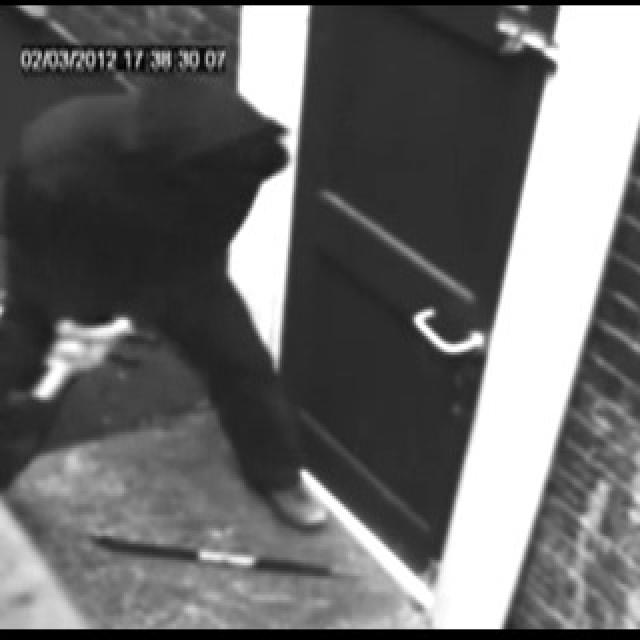thief: (23, 70, 320, 235)
